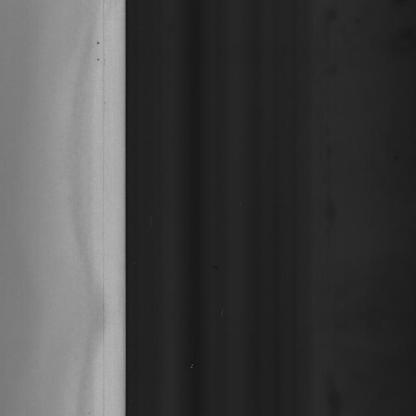inclusion: (94, 37, 102, 65)
